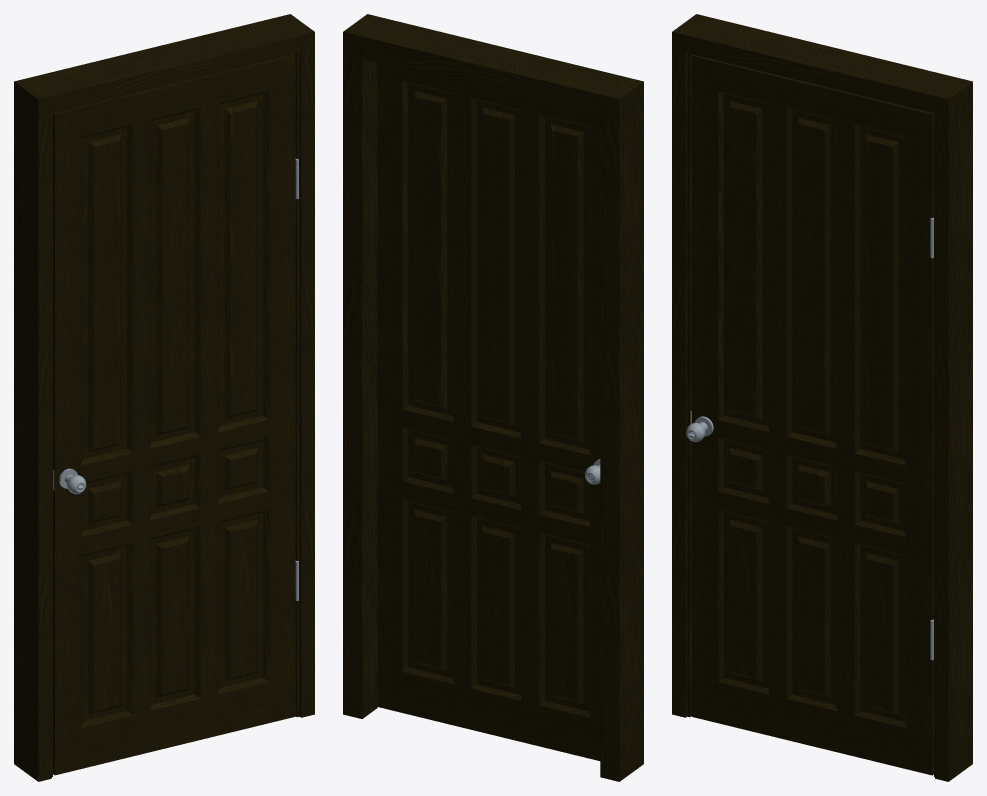
The model's file is door.glb.
3 views of the same model, side by side, from view 1: azimuth 30°, elevation 25°; view 2: azimuth 150°, elevation 25°; view 3: azimuth 330°, elevation 25° (orthographic).
Parts seen in each view (by area): view 1: Object_2; view 2: Object_2; view 3: Object_2.
Boxes of the visible parts, left/top/right/bottom form: Object_2: left=14, top=14, right=314, bottom=781; Object_2: left=343, top=14, right=643, bottom=781; Object_2: left=672, top=14, right=972, bottom=781.
Bounding box in the file's own units: 45.94 × 108 × 10.55.
Materials: 1 (1 with a texture image).
